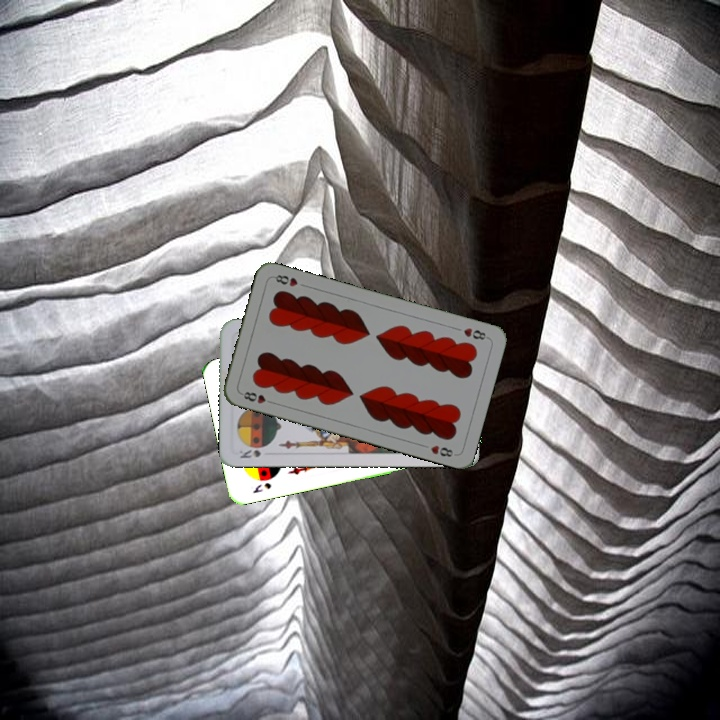H8: (237, 387, 277, 406), (459, 324, 491, 343)
SK: (235, 445, 263, 461), (249, 479, 274, 496)
